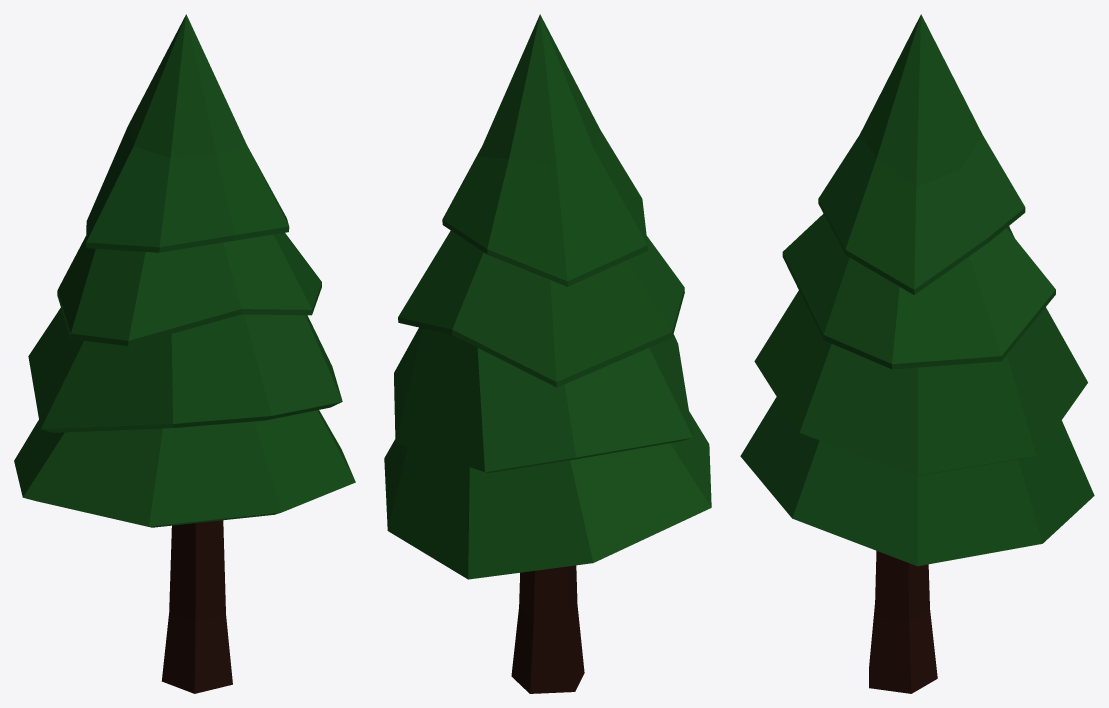
Rendered from arvore02.fbx.
3 renders of one model, left to right at view 1: azimuth 30°, elevation 25°; view 2: azimuth 150°, elevation 25°; view 3: azimuth 270°, elevation 25°, orthographic. The views are drawn at different scales.
Visible parts, largest first — view 1: Cylinder; view 2: Cylinder; view 3: Cylinder.
Boxes of the visible parts, left/top/right/bottom form: Cylinder: left=14, top=14, right=355, bottom=693; Cylinder: left=384, top=14, right=711, bottom=693; Cylinder: left=740, top=14, right=1094, bottom=693.
Size of the model in its own units: 341 by 670 by 324.
